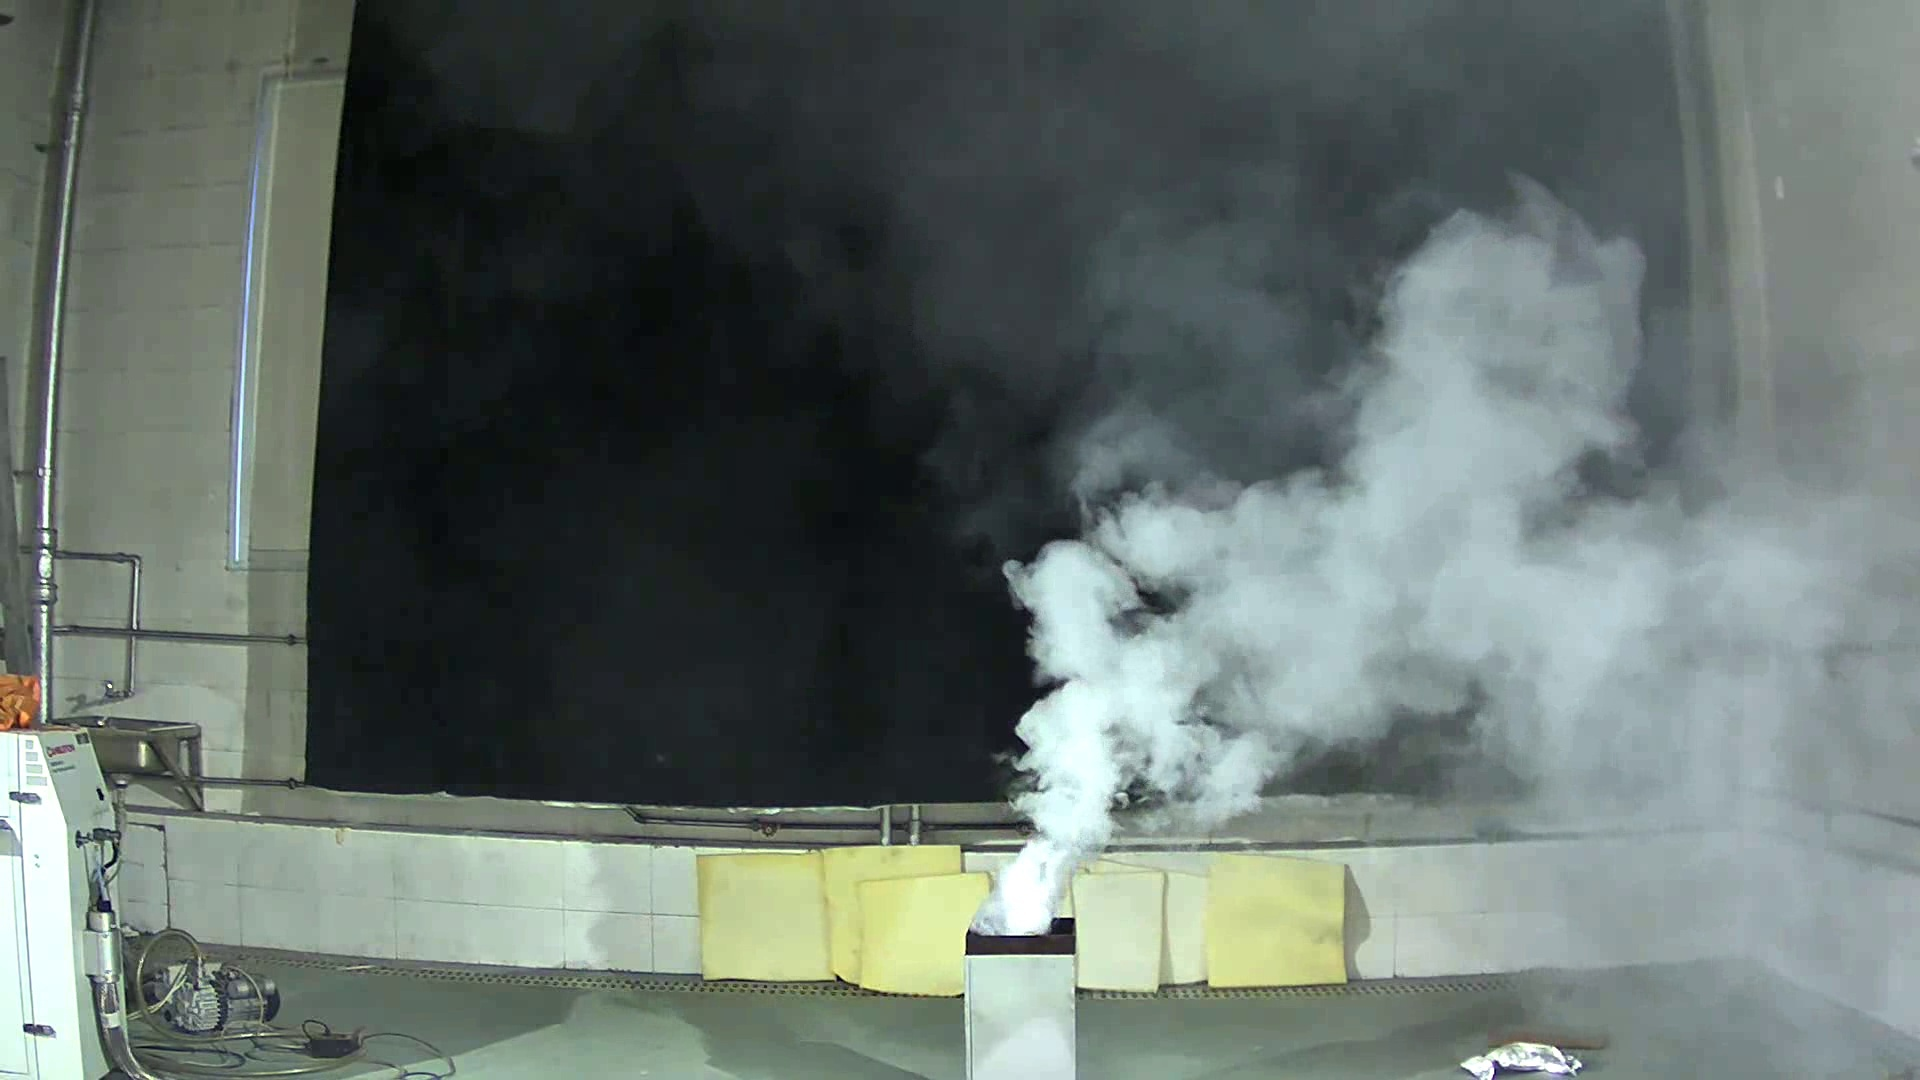smoke: (952, 164, 1741, 928)
